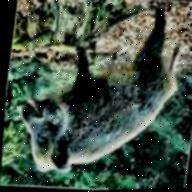boar: (7, 0, 185, 186)
